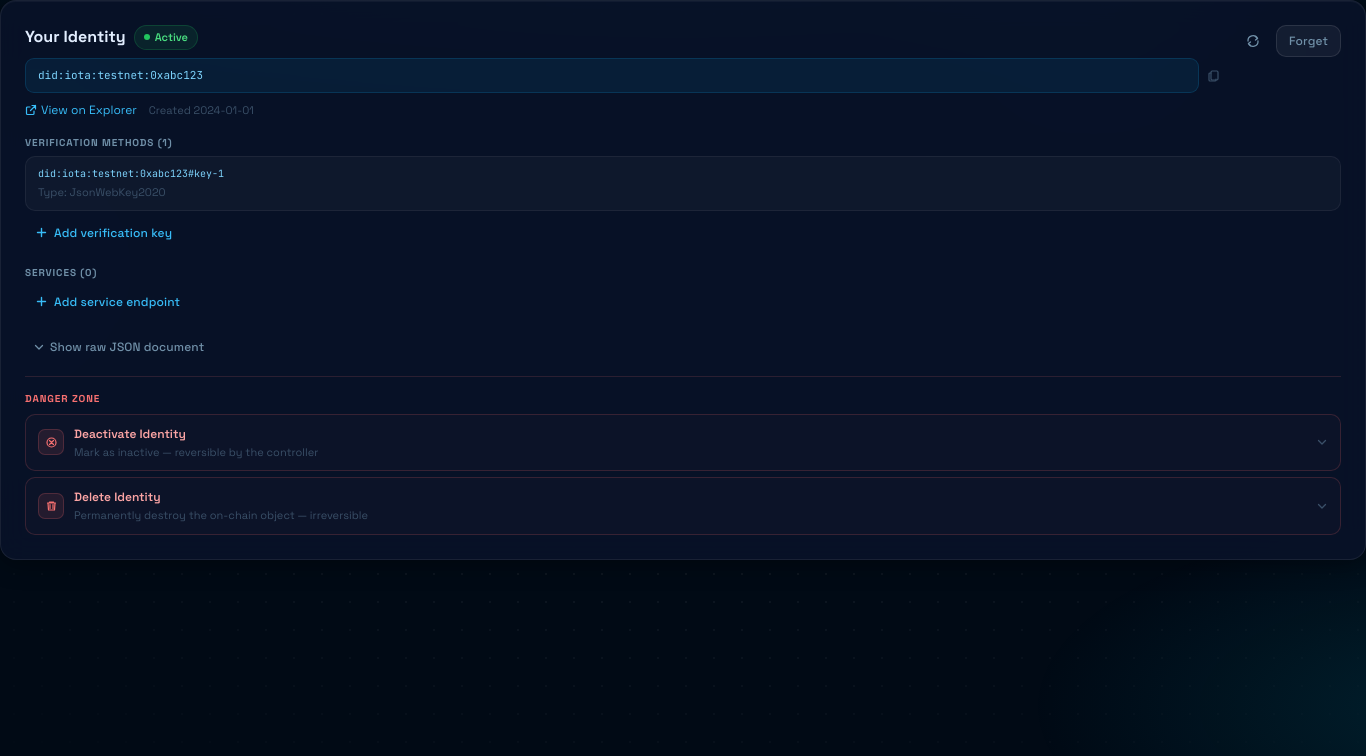
Scenario: IdentityDashboard — add service endpoint form › clicking Add service endpoint reveals the inline form
This screenshot has width=1366, height=756.
Click the button "Add service endpoint": (117, 302) left=25, top=286, right=1341, bottom=318
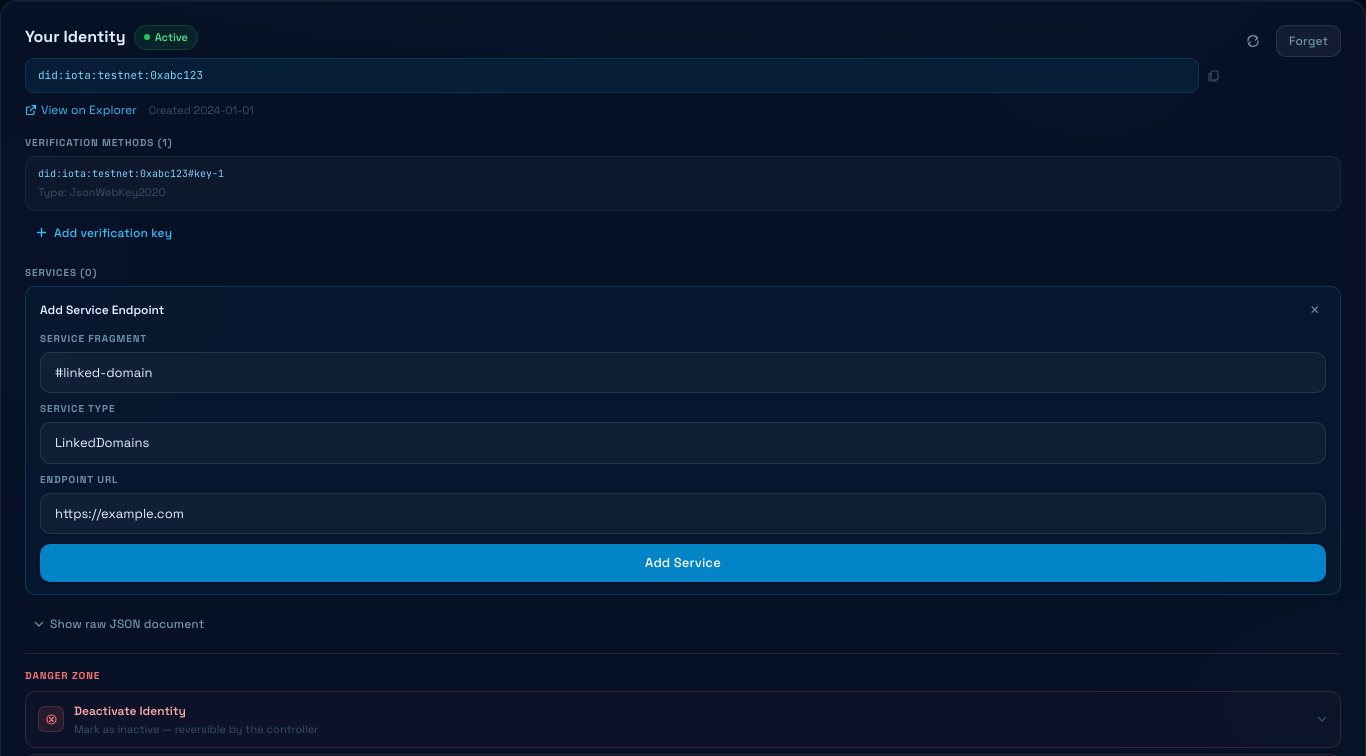
Expected: the text "Add Service Endpoint" is shown, left=40, top=301, right=164, bottom=319
Expected: the field with placeholder "#linked-domain" below "Service fragment" is shown, left=40, top=352, right=1326, bottom=393
